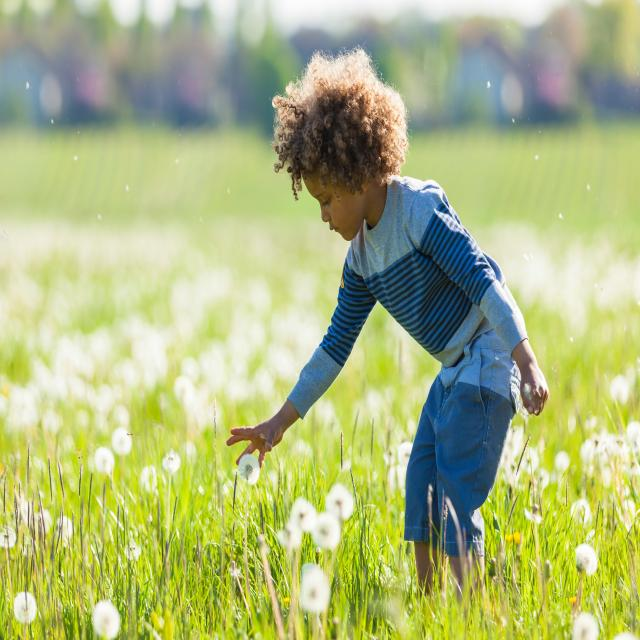child: (225, 49, 549, 596)
